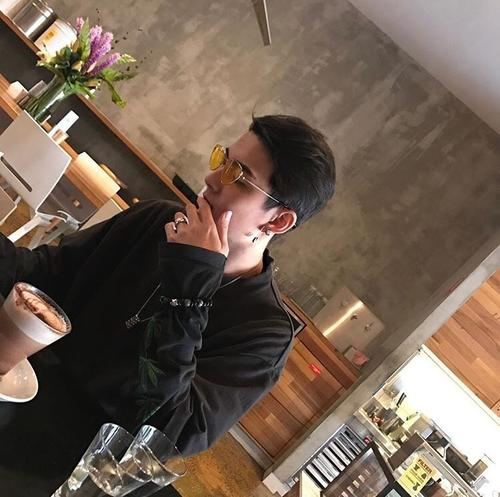no_mask: (193, 115, 336, 247)
